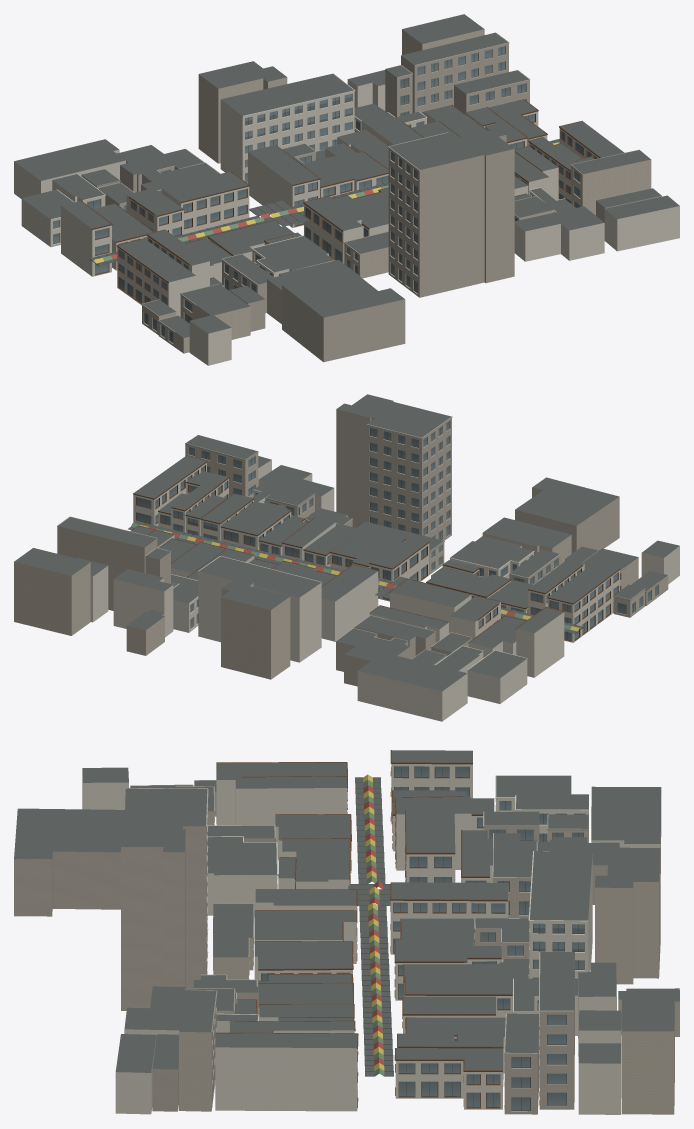
Rendered from near.gltf.
3 renders of one model, top to bottom at view 1: azimuth 30°, elevation 25°; view 2: azimuth 150°, elevation 25°; view 3: azimuth 270°, elevation 25°, orthographic. The views are drawn at different scales.
Visible parts, largest first — view 1: cell-e005-n001_near_roof, cell-e005-n001_near_tile-wall, cell-e005-n001_near_plaster, cell-e005-n001_near_glass, cell-e005-n001_near_stone, cell-e005-n001_near_wood, cell-e005-n001_near_Canopy_roof, cell-e005-n001_near_frame, cell-e005-n001_near_granite; view 2: cell-e005-n001_near_roof, cell-e005-n001_near_plaster, cell-e005-n001_near_tile-wall, cell-e005-n001_near_stone, cell-e005-n001_near_glass, cell-e005-n001_near_wood, cell-e005-n001_near_Canopy_roof, cell-e005-n001_near_frame, cell-e005-n001_near_granite; view 3: cell-e005-n001_near_roof, cell-e005-n001_near_plaster, cell-e005-n001_near_tile-wall, cell-e005-n001_near_stone, cell-e005-n001_near_glass, cell-e005-n001_near_wood, cell-e005-n001_near_Canopy_roof, cell-e005-n001_near_Canopy_arcade-gold, cell-e005-n001_near_Canopy_arcade-green, cell-e005-n001_near_Canopy_arcade-red, cell-e005-n001_near_granite, cell-e005-n001_near_frame (+1 smaller).
Part boxes in pixels (x1,y1,x2,y2): cell-e005-n001_near_roof: (14, 14, 679, 337); cell-e005-n001_near_tile-wall: (99, 32, 661, 362); cell-e005-n001_near_plaster: (14, 73, 679, 365); cell-e005-n001_near_glass: (53, 46, 597, 342); cell-e005-n001_near_stone: (81, 29, 651, 353); cell-e005-n001_near_wood: (81, 99, 600, 305); cell-e005-n001_near_Canopy_roof: (89, 139, 559, 265); cell-e005-n001_near_frame: (53, 46, 579, 342); cell-e005-n001_near_granite: (97, 149, 639, 343); cell-e005-n001_near_roof: (14, 394, 679, 691); cell-e005-n001_near_plaster: (90, 460, 679, 721); cell-e005-n001_near_tile-wall: (57, 401, 619, 686); cell-e005-n001_near_stone: (14, 444, 668, 679); cell-e005-n001_near_glass: (137, 421, 658, 640); cell-e005-n001_near_wood: (130, 461, 620, 643); cell-e005-n001_near_Canopy_roof: (128, 521, 583, 633); cell-e005-n001_near_frame: (189, 421, 657, 628); cell-e005-n001_near_granite: (185, 443, 660, 659); cell-e005-n001_near_roof: (14, 750, 679, 1072); cell-e005-n001_near_plaster: (82, 764, 661, 1114); cell-e005-n001_near_tile-wall: (14, 788, 607, 1114); cell-e005-n001_near_stone: (135, 787, 679, 1114); cell-e005-n001_near_glass: (261, 766, 584, 1110); cell-e005-n001_near_wood: (216, 750, 512, 1108); cell-e005-n001_near_Canopy_roof: (348, 777, 393, 1076); cell-e005-n001_near_Canopy_arcade-gold: (363, 774, 384, 1070); cell-e005-n001_near_Canopy_arcade-green: (363, 780, 384, 1076); cell-e005-n001_near_Canopy_arcade-red: (363, 785, 383, 1065); cell-e005-n001_near_granite: (151, 780, 588, 1106); cell-e005-n001_near_frame: (480, 801, 585, 1111).
Size of the model in its own units: 104 by 25.64 by 94.16.
12 materials, 6 textured.
